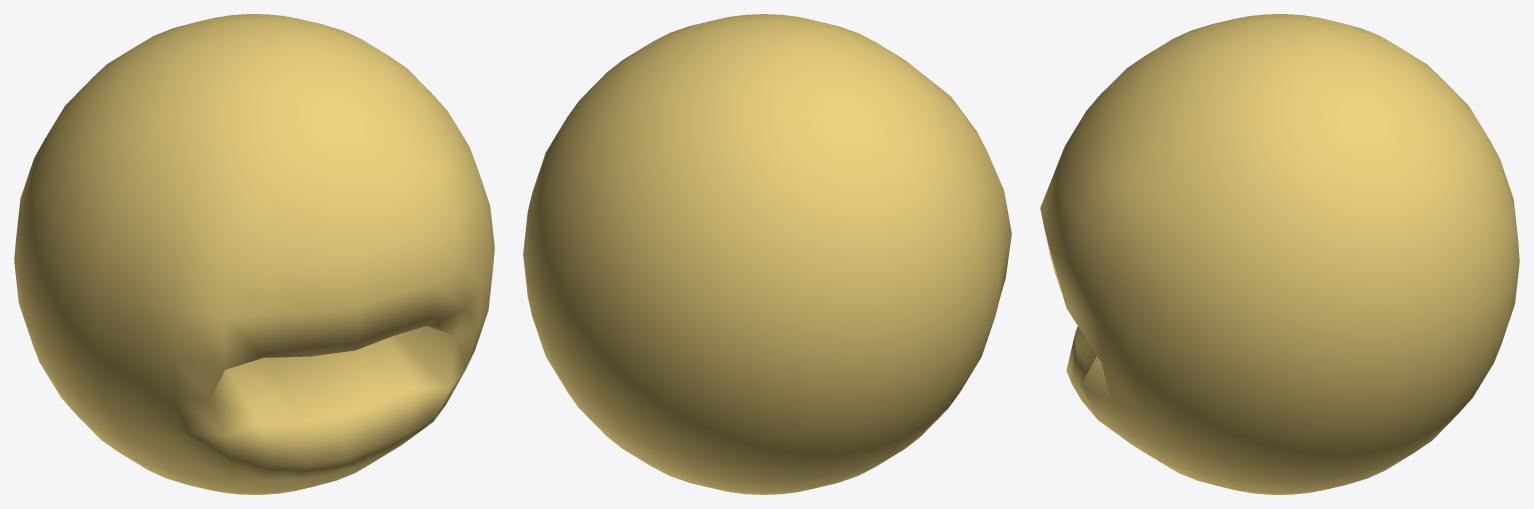
The model's file is test2_all.fbx.
The picture shows the model from 3 angles, left to right: view 1: azimuth 30°, elevation 25°; view 2: azimuth 150°, elevation 25°; view 3: azimuth 270°, elevation 25°; orthographic projection.
Visible parts, largest first — view 1: Sphere; view 2: Sphere; view 3: Sphere.
Part boxes in pixels (x1,y1,x2,y2): Sphere: (14,14,494,494); Sphere: (523,14,1011,494); Sphere: (1040,14,1519,494).
Size of the model in its own units: 200 by 200 by 199.
